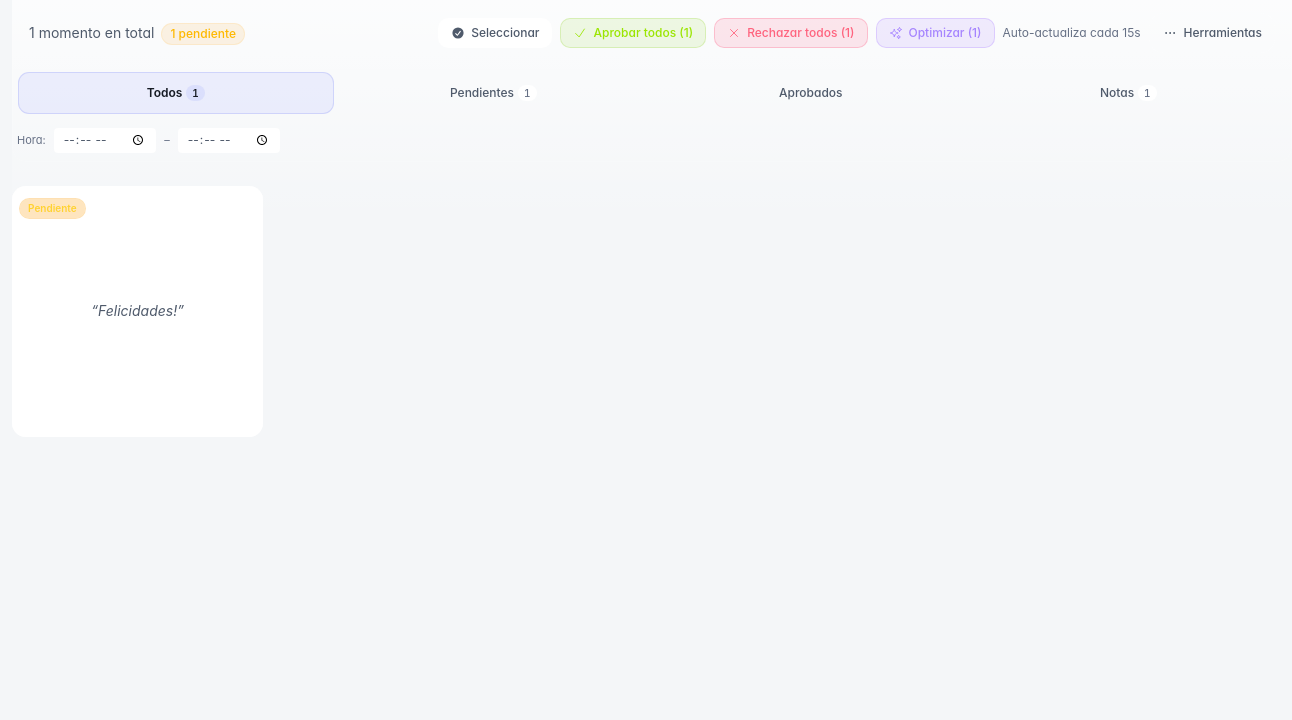
Test: MomentsWall — multi-select › exiting select mode hides Seleccionar todo and clears selection
This screenshot has width=1292, height=720.
Note: Enter select mode
Click the button titled "Seleccionar momentos": (495, 33) [438,18,552,48]
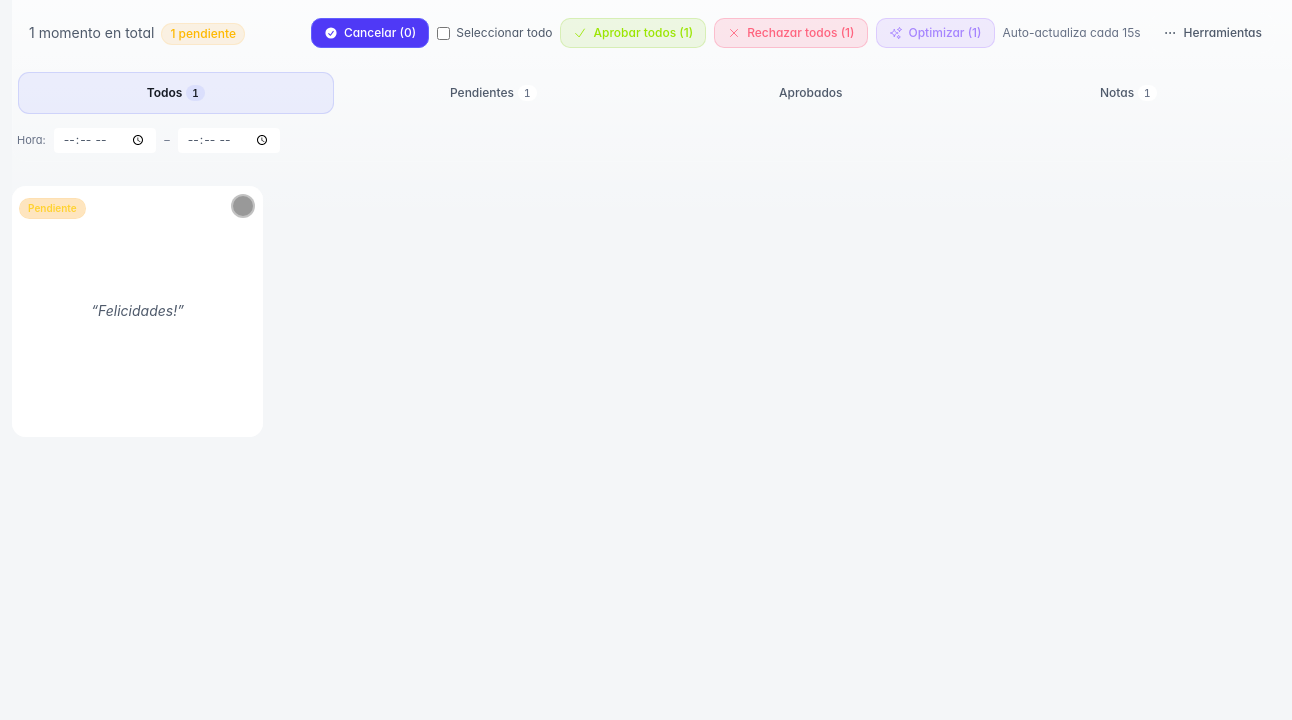
Check: the text "Seleccionar todo" is shown, box [456,25,552,41]
Note: Select all
Click the checkbox: (444, 33) [437,26,450,40]
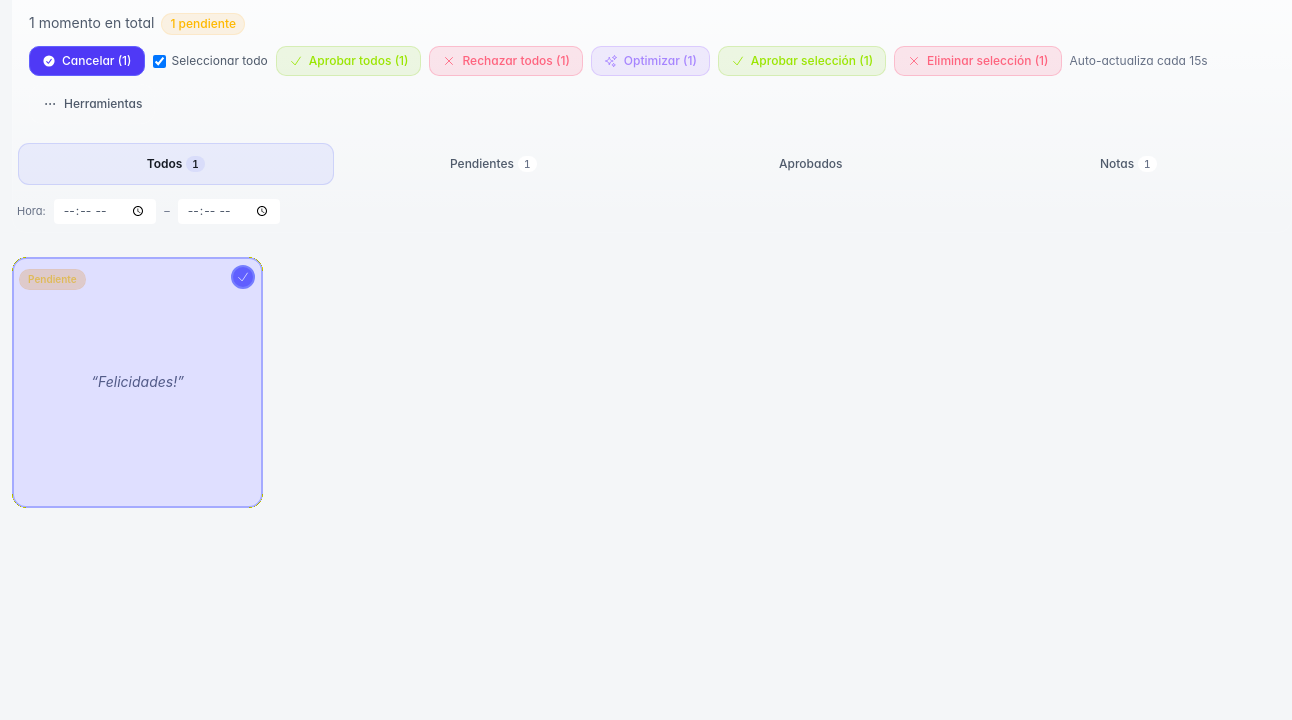
Check: the button titled "Cancelar selección" is shown
Note: Exit select mode
Click the button titled "Cancelar selección": (87, 61) [29,46,144,76]
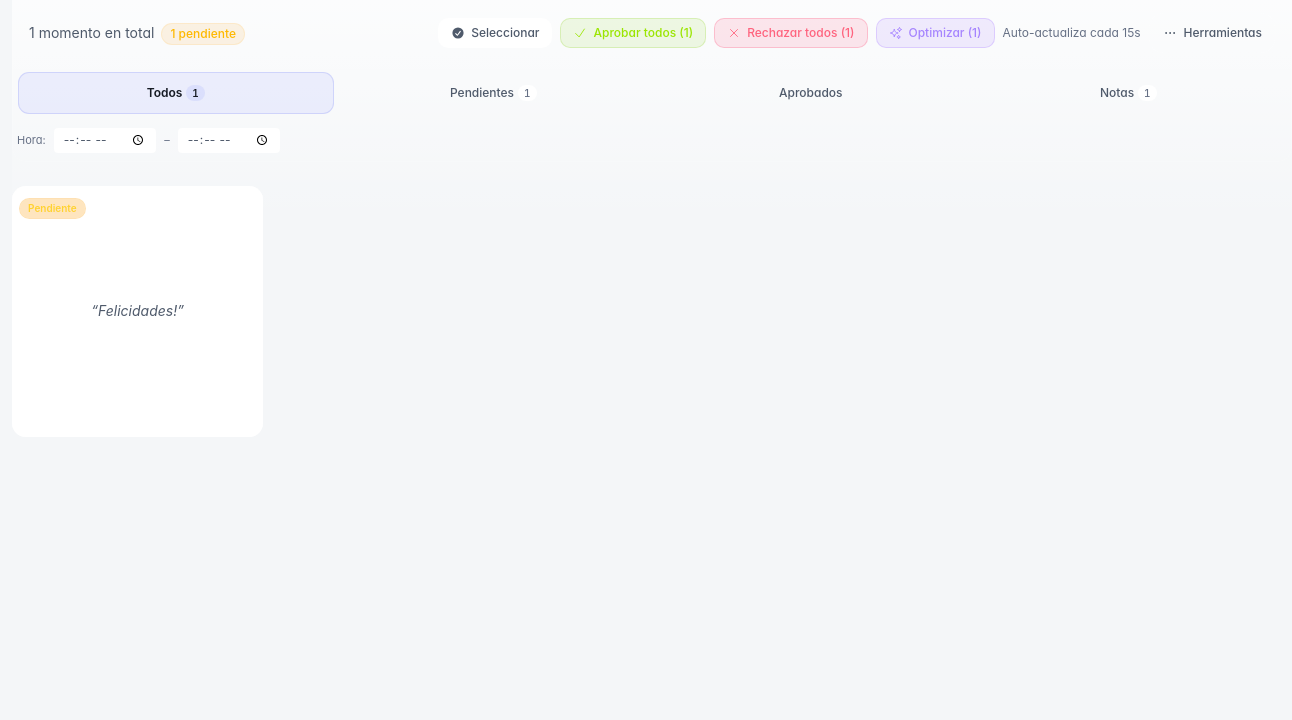
Check: the text "Seleccionar todo" is gone
Check: the button "Aprobar selección" is gone
